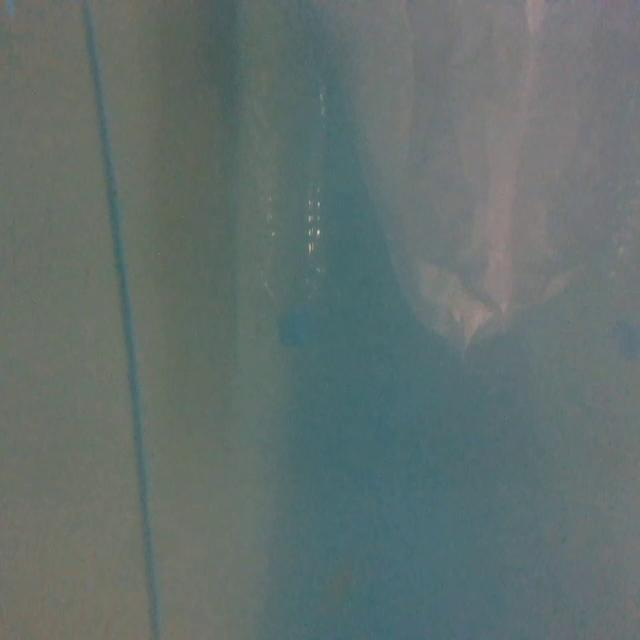plastic bags: (325, 0, 640, 356)
plastic bottle: (242, 58, 340, 358)
